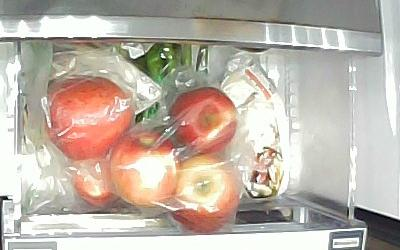apple_vinyl: (47, 77, 130, 161), (109, 130, 180, 207), (172, 156, 240, 234), (171, 88, 237, 155), (71, 156, 119, 206)
